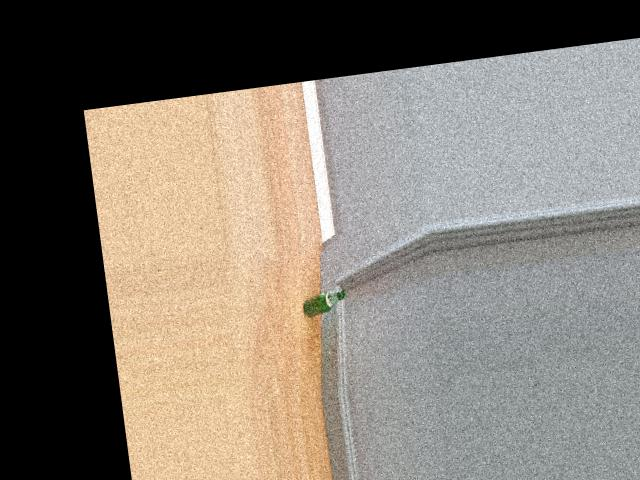beer: (301, 289, 346, 317)
